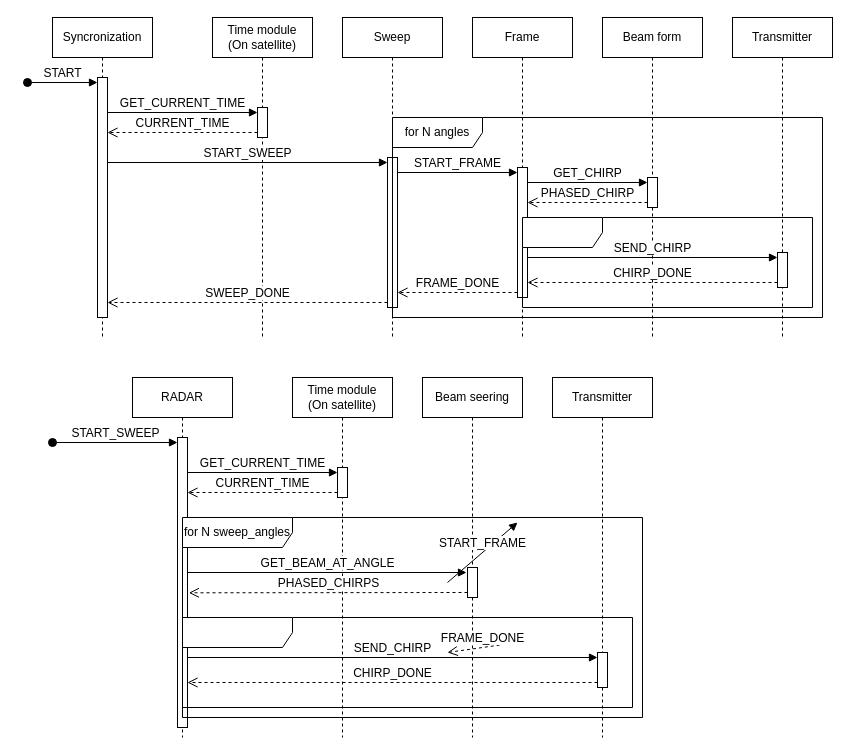
Some shapes in this 850 by 755 pixel diagram are drawn without their labels. Each missing label, with the centre of its shape:
for N chirps: point (667, 262)
for N frame_chirps: point (407, 662)
